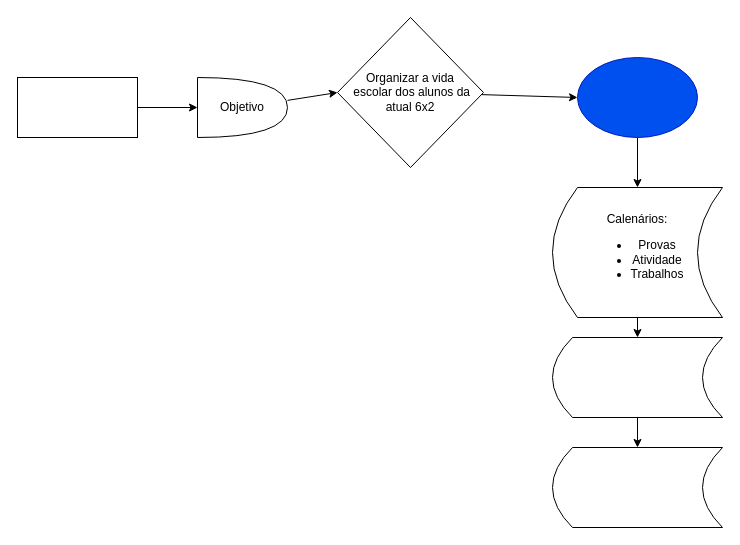
This 740x545 diagram has some shape labels left out. Each missing label, with the centre of its shape:
"6X2 APP" belongs at (77,107).
"Recursos" belongs at (637,97).
